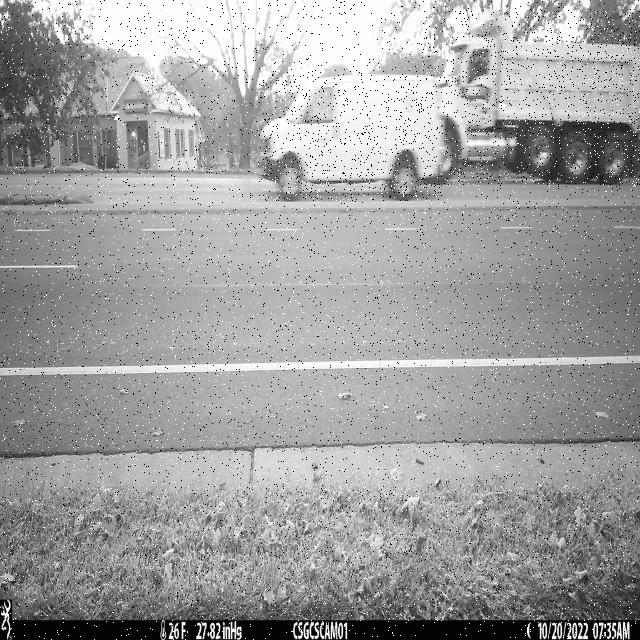Truck- Multi-Axle: (422, 9, 640, 185)
Van: (258, 75, 445, 201)
